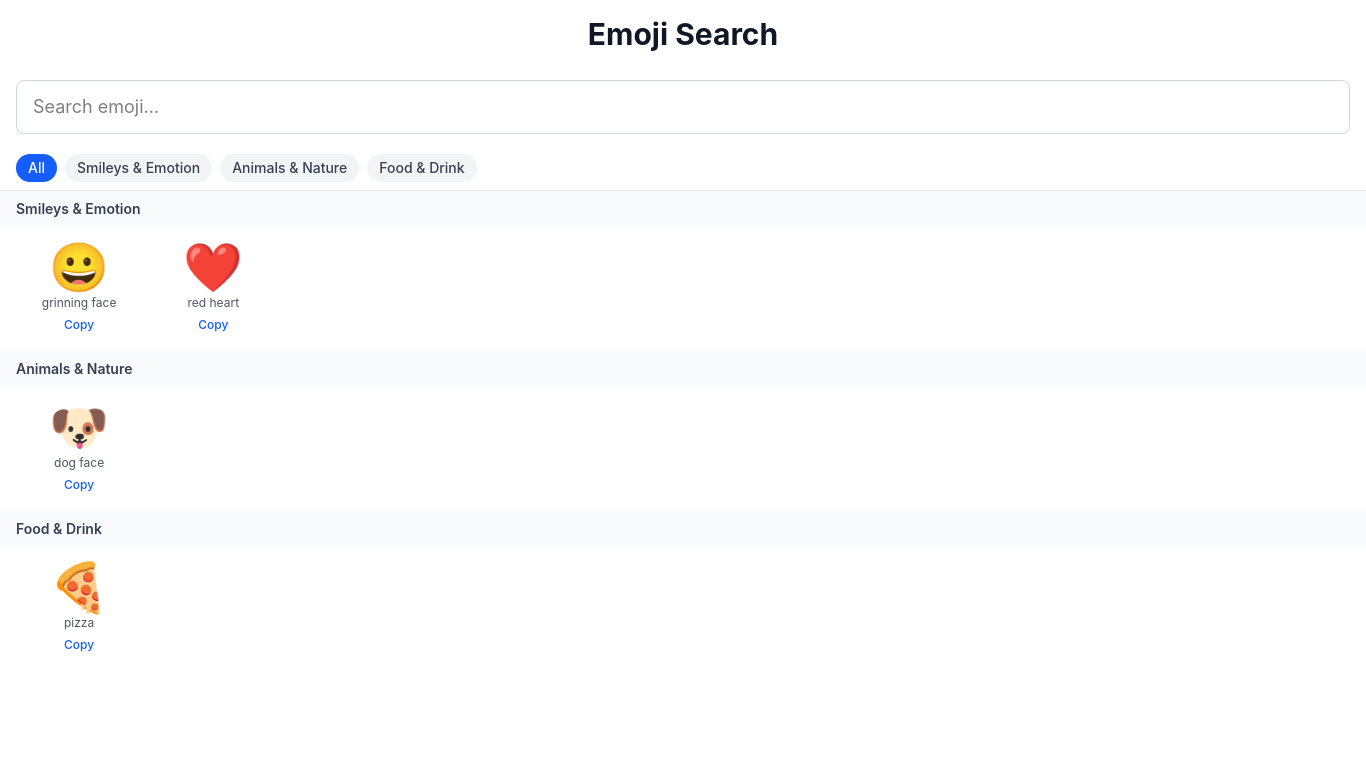
it: App component › shows no results message for nonsense search
In the search field: (683, 107) [16,80,1350,134], type "xyznonexistent"
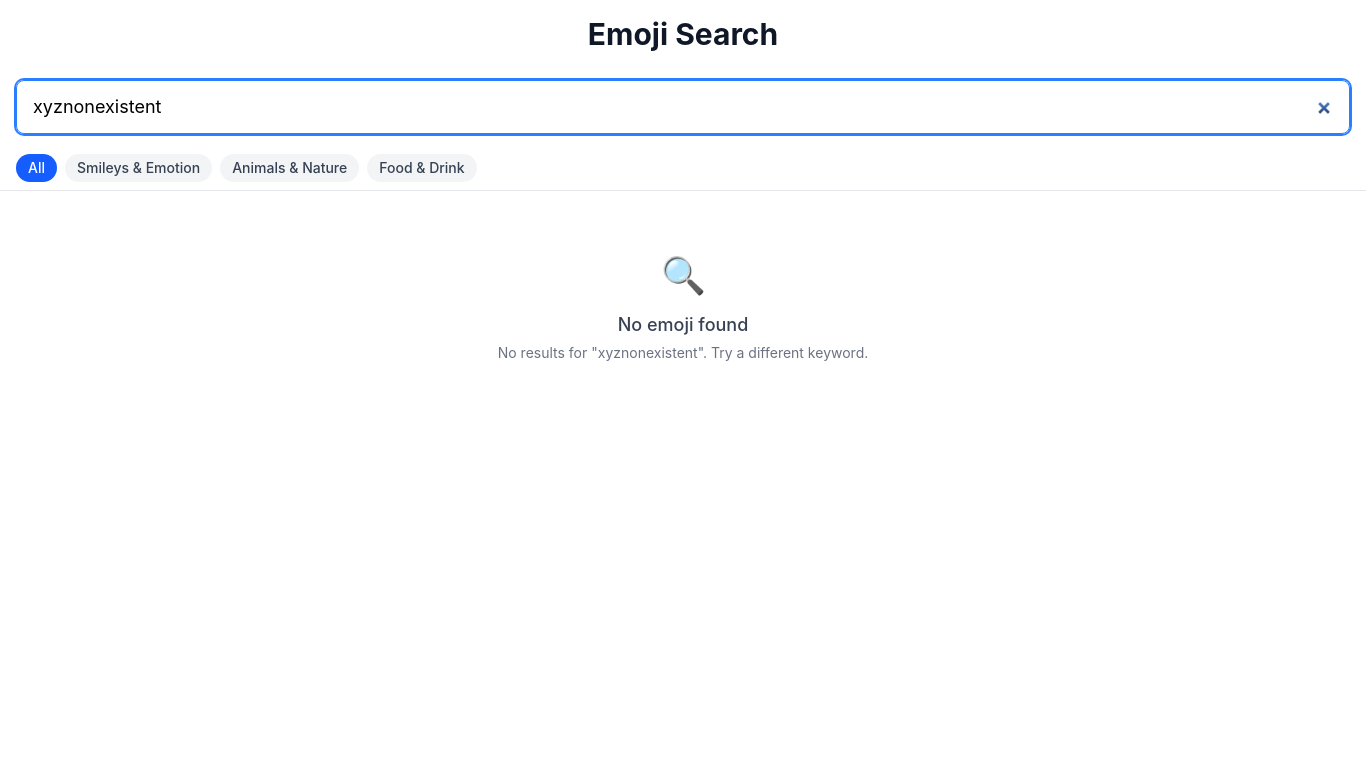
Now the text "No emoji found" is shown, box [618,311,748,339]
